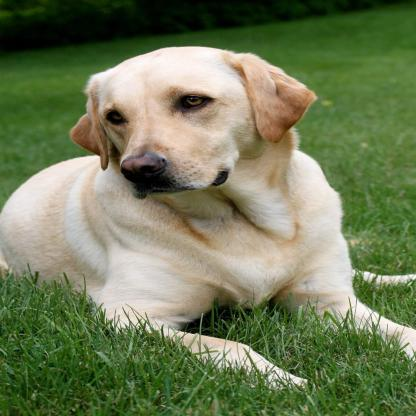Rotveler: (0, 43, 416, 393)
